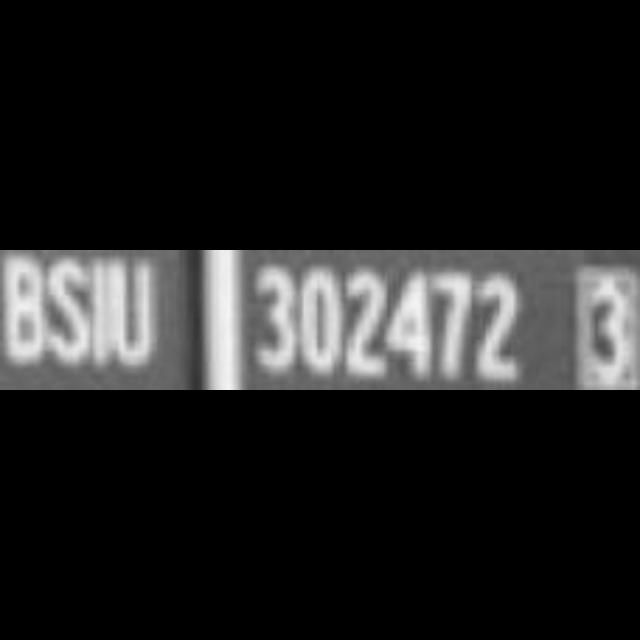0: (298, 264, 346, 378)
2: (476, 267, 524, 385), (345, 264, 389, 380)
3: (250, 258, 298, 378), (586, 272, 632, 383)
4: (388, 266, 434, 384)
7: (433, 264, 472, 380)
b: (0, 252, 50, 374)
i: (92, 252, 110, 378)
s: (47, 252, 91, 370)
u: (112, 255, 156, 372)
